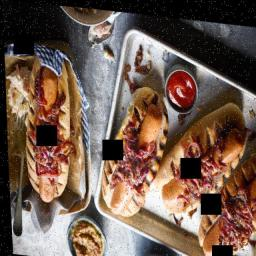hotdog: (151, 88, 250, 216), (94, 84, 173, 224), (18, 54, 75, 206), (189, 142, 256, 255)
